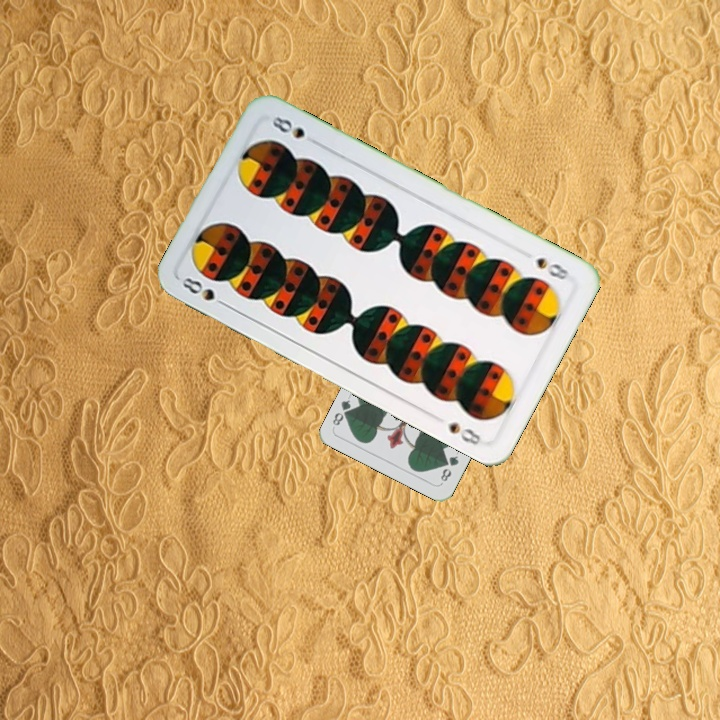G8: (436, 452, 461, 485)
S8: (177, 273, 232, 310), (532, 253, 576, 282)
